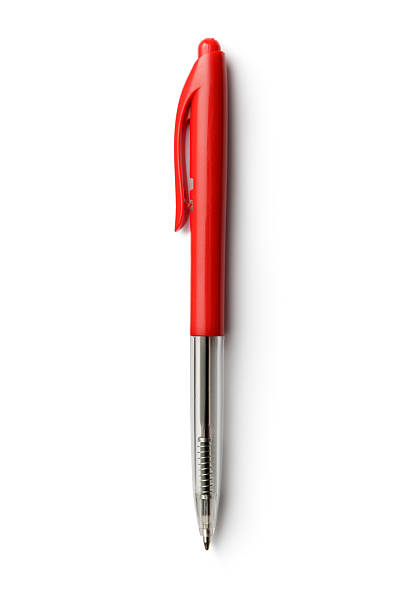pen: (156, 26, 254, 564)
